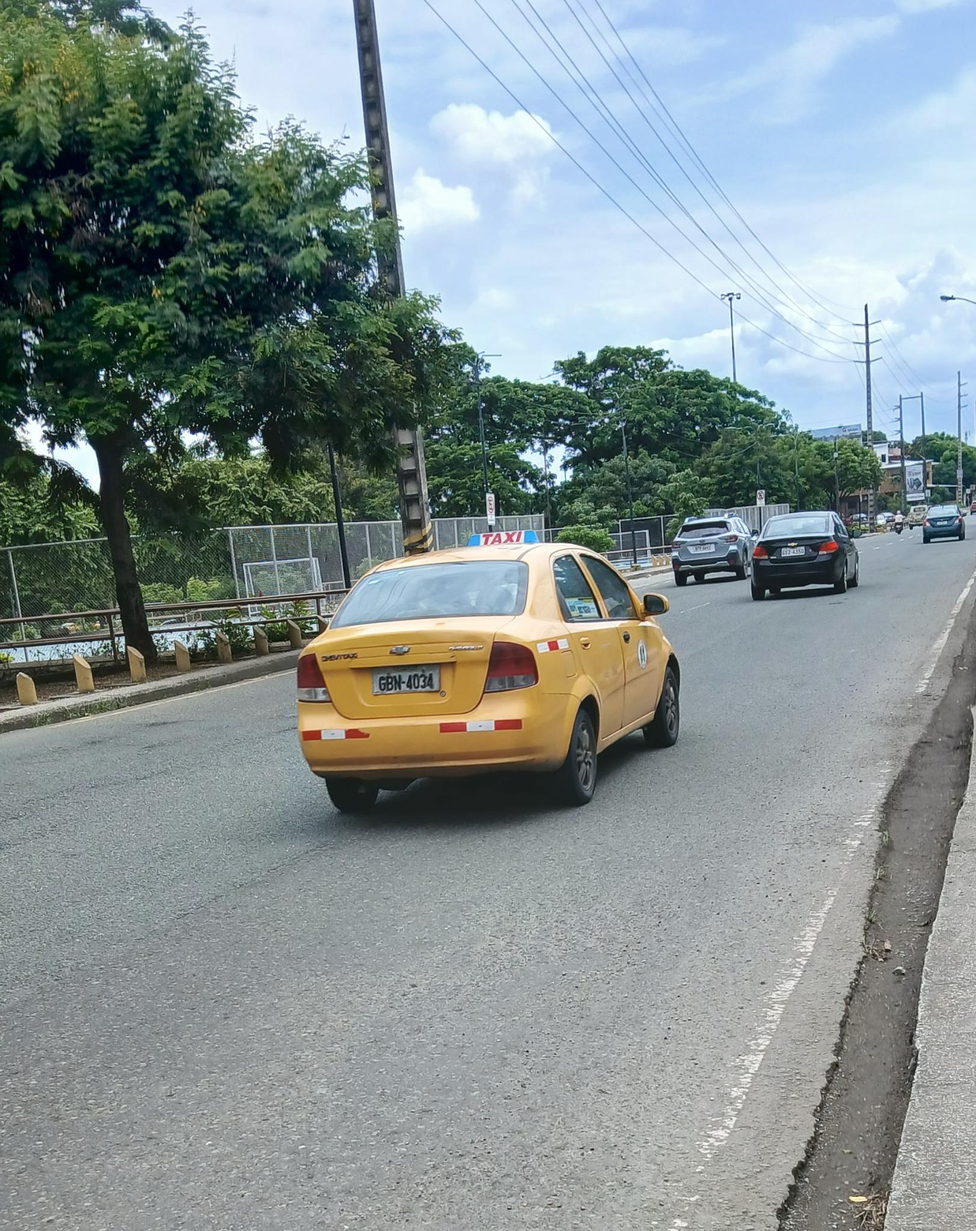license_plate: (372, 665, 444, 695), (780, 546, 806, 556), (690, 542, 715, 552), (935, 519, 952, 525)
